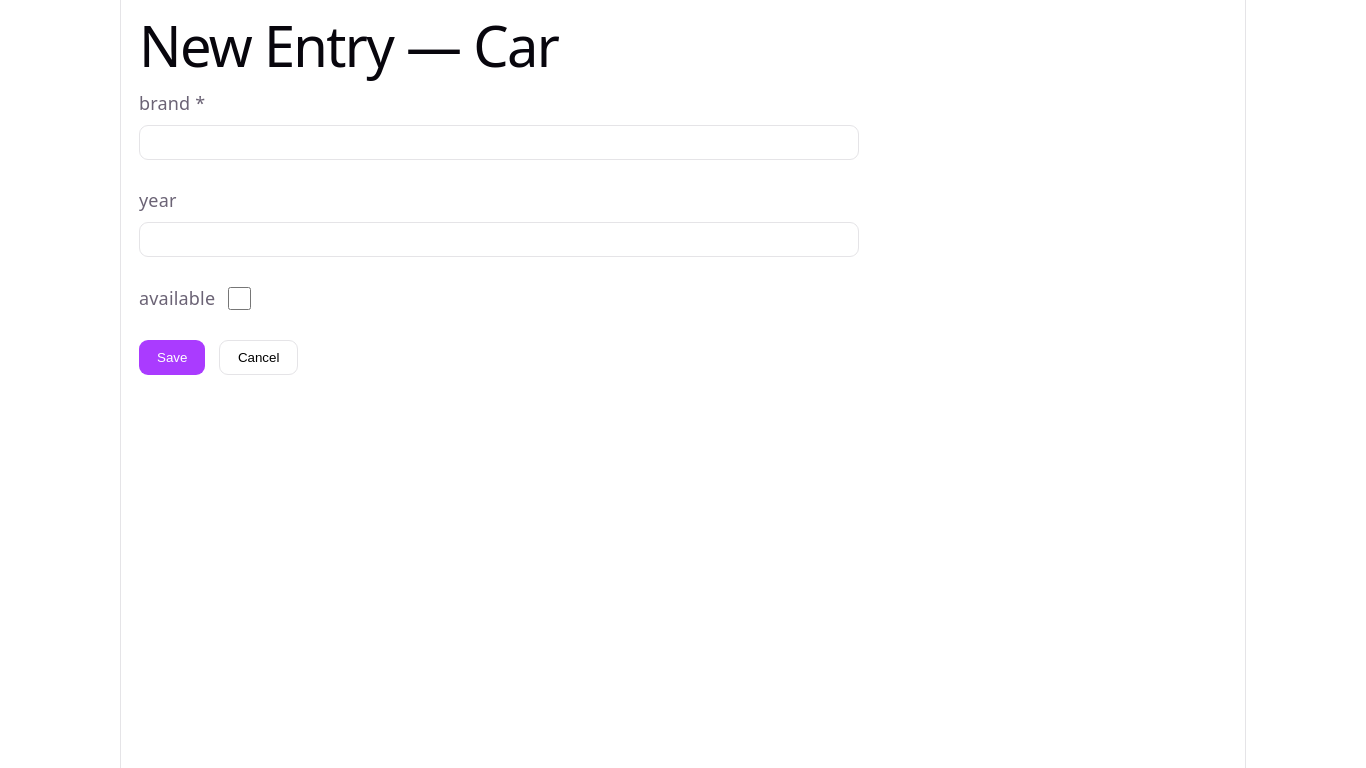
Test case: EntryEditorPage — new mode › disables Save and shows "Saving…" while the mutation is pending
Type "Tesla" into the field named "brand" at (499, 143), box top-left (139, 125), bottom-right (859, 160)
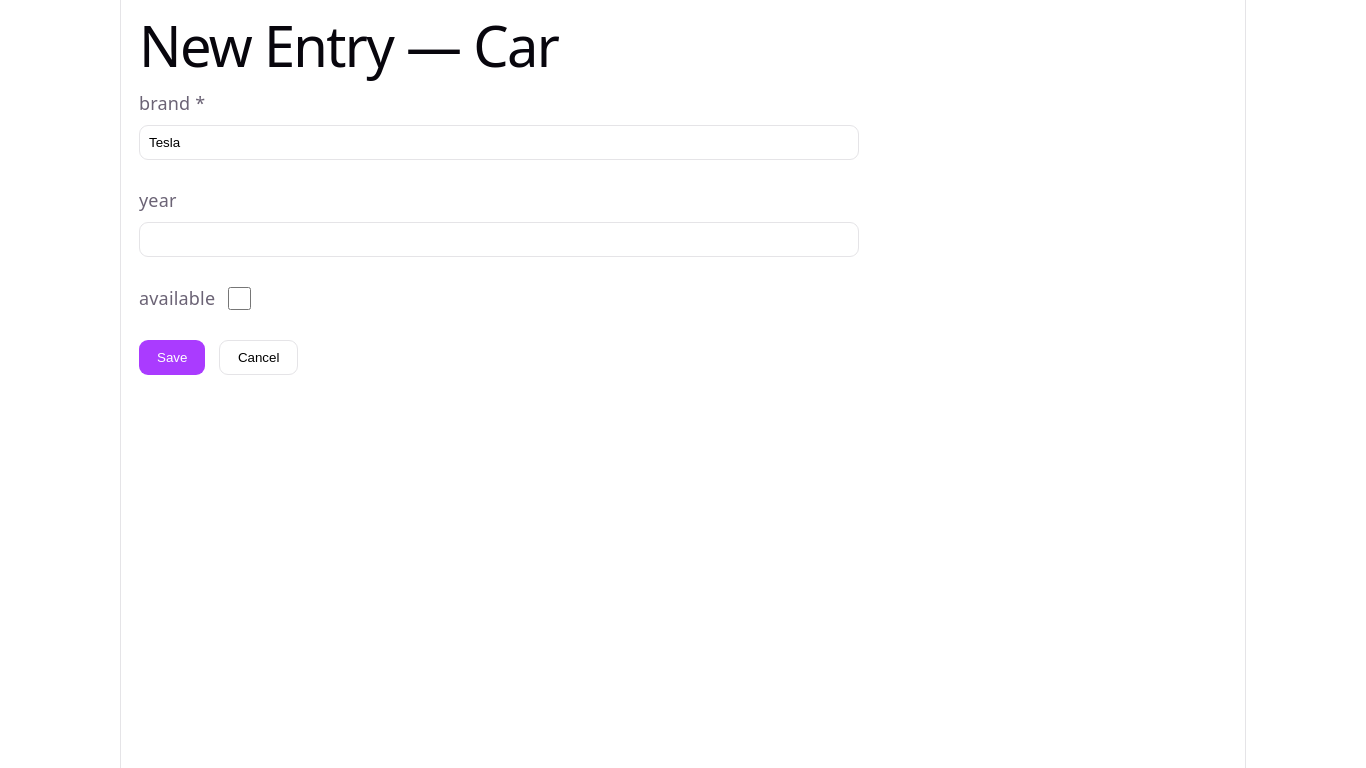
Click the button "Save" at (172, 357), box top-left (139, 340), bottom-right (205, 375)
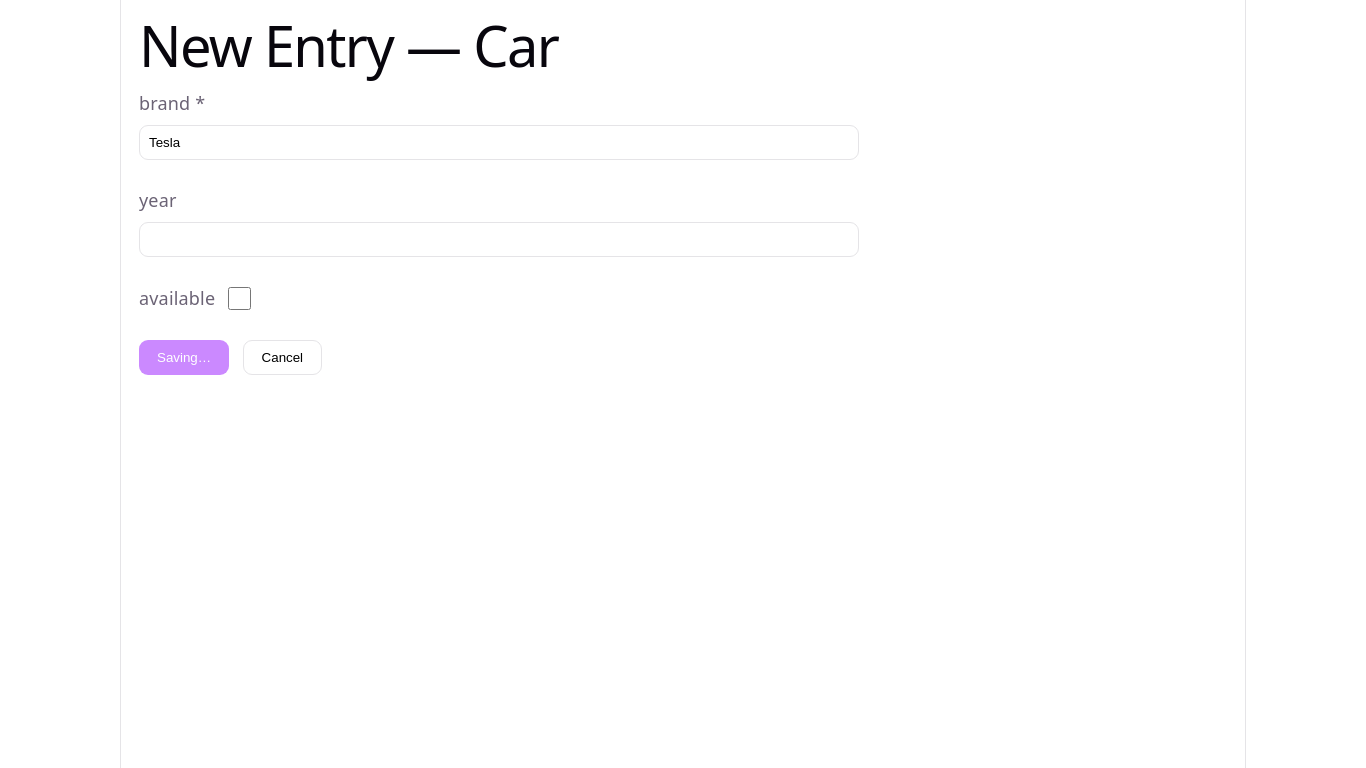
Expected: the button "Saving…" is disabled, top-left (139, 340), bottom-right (229, 375)
